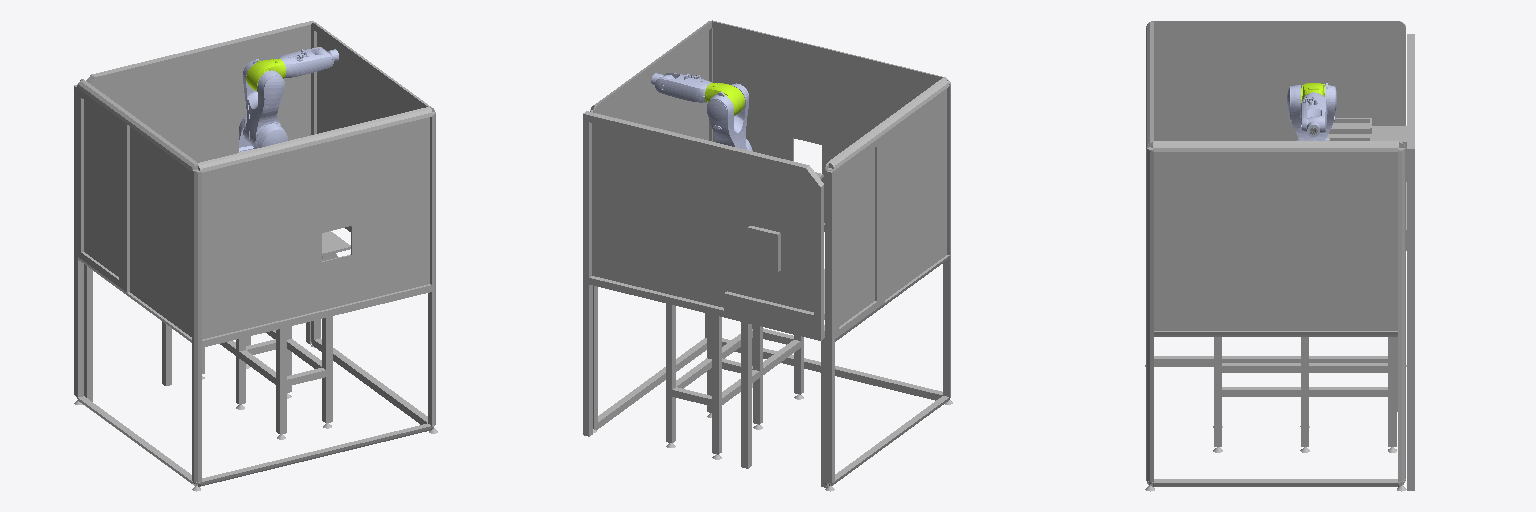
URDF robot description (kuka_urdf):
<?xml version="1.0" encoding="utf-8"?>
<!-- This URDF was automatically created by SolidWorks to URDF Exporter! Originally created by [author] ([email redacted]) 
     Commit Version: 1.5.1-0-g916b5db  Build Version: 1.5.7152.31018
     For more information, please see http://wiki.ros.org/sw_urdf_exporter -->
<robot
  name="kuka_urdf">
  <link
    name="base_link">
    <inertial>
      <origin
        xyz="0.578233258845226 -0.427953822747016 1.10006999729089"
        rpy="0 0 0" />
      <mass
        value="156.699273713239" />
      <inertia
        ixx="15.3483916720076"
        ixy="-0.769890218667312"
        ixz="-0.333622669748493"
        iyy="20.9696858078628"
        iyz="-0.21782222630579"
        izz="14.5591699314294" />
    </inertial>
    <visual>
      <origin
        xyz="0 0 0"
        rpy="0 0 0" />
      <geometry>
        <mesh
          filename="package://kuka_urdf/meshes/base_link.STL" />
      </geometry>
      <material
        name="">
        <color
          rgba="0.752941176470588 0.752941176470588 0.752941176470588 1" />
      </material>
    </visual>
    <collision>
      <origin
        xyz="0 0 0"
        rpy="0 0 0" />
      <geometry>
        <mesh
          filename="package://kuka_urdf/meshes/base_link.STL" />
      </geometry>
    </collision>
  </link>
  <link
    name="Link1">
    <inertial>
      <origin
        xyz="-0.0351156705591721 0.000184791414012453 -0.134801459657782"
        rpy="0 0 0" />
      <mass
        value="13.310335827662" />
      <inertia
        ixx="0.0747995175973457"
        ixy="-9.77969830121166E-05"
        ixz="-0.00113073350324059"
        iyy="0.123810684850794"
        iyz="-1.89141220859297E-05"
        izz="0.118881621023302" />
    </inertial>
    <visual>
      <origin
        xyz="0 0 0"
        rpy="0 0 0" />
      <geometry>
        <mesh
          filename="package://kuka_urdf/meshes/Link1.STL" />
      </geometry>
      <material
        name="">
        <color
          rgba="0.996078431372549 0.996078431372549 1 1" />
      </material>
    </visual>
    <collision>
      <origin
        xyz="0 0 0"
        rpy="0 0 0" />
      <geometry>
        <mesh
          filename="package://kuka_urdf/meshes/Link1.STL" />
      </geometry>
    </collision>
  </link>
  <joint
    name="Joint1"
    type="continuous">
    <origin
      xyz="0.8275 -0.43219 1.3595"
      rpy="0 0 0" />
    <parent
      link="base_link" />
    <child
      link="Link1" />
    <axis
      xyz="0 1 0" />
    <limit
      lower="-100"
      upper="100"
      effort="500"
      velocity="2" />
  </joint>
  <link
    name="Link2">
    <inertial>
      <origin
        xyz="-0.0170325808260173 0.0020186905588519 -0.067281926501007"
        rpy="0 0 0" />
      <mass
        value="6.27526433045052" />
      <inertia
        ixx="0.0762054973038654"
        ixy="9.82188144569864E-06"
        ixz="-0.00530053527199465"
        iyy="0.0500772495062891"
        iyz="-0.000515039637430019"
        izz="0.0562692167501733" />
    </inertial>
    <visual>
      <origin
        xyz="0 0 0"
        rpy="0 0 0" />
      <geometry>
        <mesh
          filename="package://kuka_urdf/meshes/Link2.STL" />
      </geometry>
      <material
        name="">
        <color
          rgba="0.792156862745098 0.819607843137255 0.933333333333333 1" />
      </material>
    </visual>
    <collision>
      <origin
        xyz="0 0 0"
        rpy="0 0 0" />
      <geometry>
        <mesh
          filename="package://kuka_urdf/meshes/Link2.STL" />
      </geometry>
    </collision>
  </link>
  <joint
    name="Joint2"
    type="revolute">
    <origin
      xyz="0.025 0 0.183"
      rpy="0 0 0" />
    <parent
      link="Link1" />
    <child
      link="Link2" />
    <axis
      xyz="0 0 1" />
    <limit
      lower="-6.28"
      upper="6.28"
      effort="500"
      velocity="2" />
  </joint>
  <link
    name="Link3">
    <inertial>
      <origin
        xyz="-0.00525474427373585 -0.00581945166654008 -0.183556176601122"
        rpy="0 0 0" />
      <mass
        value="7.36258419830385" />
      <inertia
        ixx="0.151415780044457"
        ixy="-1.49717820004799E-05"
        ixz="0.000868975891906839"
        iyy="0.135639503717904"
        iyz="0.00168356968157077"
        izz="0.0384883579896224" />
    </inertial>
    <visual>
      <origin
        xyz="0 0 0"
        rpy="0 0 0" />
      <geometry>
        <mesh
          filename="package://kuka_urdf/meshes/Link3.STL" />
      </geometry>
      <material
        name="">
        <color
          rgba="0.792156862745098 0.819607843137255 0.933333333333333 1" />
      </material>
    </visual>
    <collision>
      <origin
        xyz="0 0 0"
        rpy="0 0 0" />
      <geometry>
        <mesh
          filename="package://kuka_urdf/meshes/Link3.STL" />
      </geometry>
    </collision>
  </link>
  <joint
    name="Joint3"
    type="revolute">
    <origin
      xyz="0 0 0.315"
      rpy="0 0 0" />
    <parent
      link="Link2" />
    <child
      link="Link3" />
    <axis
      xyz="0 -1 0" />
    <limit
      lower="-6.28"
      upper="6.28"
      effort="500"
      velocity="2" />
  </joint>
  <link
    name="Link4">
    <inertial>
      <origin
        xyz="-0.0910602630812216 0.000775516189770509 -0.0246377959392461"
        rpy="0 0 0" />
      <mass
        value="2.90698496734874" />
      <inertia
        ixx="0.00835937630352446"
        ixy="3.52504576818562E-05"
        ixz="-0.00140858847686176"
        iyy="0.0112132449448129"
        iyz="1.88954255172526E-05"
        izz="0.0100277382418828" />
    </inertial>
    <visual>
      <origin
        xyz="0 0 0"
        rpy="0 0 0" />
      <geometry>
        <mesh
          filename="package://kuka_urdf/meshes/Link4.STL" />
      </geometry>
      <material
        name="">
        <color
          rgba="0.8 1 0.2 1" />
      </material>
    </visual>
    <collision>
      <origin
        xyz="0 0 0"
        rpy="0 0 0" />
      <geometry>
        <mesh
          filename="package://kuka_urdf/meshes/Link4.STL" />
      </geometry>
    </collision>
  </link>
  <joint
    name="Joint4"
    type="revolute">
    <origin
      xyz="0.10695 0.003 0.035"
      rpy="0 0 0" />
    <parent
      link="Link3" />
    <child
      link="Link4" />
    <axis
      xyz="0 -1 0" />
    <limit
      lower="-6.28"
      upper="6.28"
      effort="500"
      velocity="2" />
  </joint>
  <link
    name="Link5">
    <inertial>
      <origin
        xyz="-0.1340682757853 0.00346882113244334 0.000289159358457303"
        rpy="0 0 0" />
      <mass
        value="2.75654210425904" />
      <inertia
        ixx="0.00584711964625554"
        ixy="-0.000156323136874247"
        ixz="5.19522467907712E-06"
        iyy="0.0156113113263976"
        iyz="1.44373593566698E-05"
        izz="0.0172713088405886" />
    </inertial>
    <visual>
      <origin
        xyz="0 0 0"
        rpy="0 0 0" />
      <geometry>
        <mesh
          filename="package://kuka_urdf/meshes/Link5.STL" />
      </geometry>
      <material
        name="">
        <color
          rgba="0.792156862745098 0.819607843137255 0.933333333333333 1" />
      </material>
    </visual>
    <collision>
      <origin
        xyz="0 0 0"
        rpy="0 0 0" />
      <geometry>
        <mesh
          filename="package://kuka_urdf/meshes/Link5.STL" />
      </geometry>
    </collision>
  </link>
  <joint
    name="Joint5"
    type="revolute">
    <origin
      xyz="0.25805 0 0"
      rpy="0 0 0" />
    <parent
      link="Link4" />
    <child
      link="Link5" />
    <axis
      xyz="-1 0 0" />
    <limit
      lower="-6.28"
      upper="6.28"
      effort="500"
      velocity="2" />
  </joint>
  <link
    name="Link6">
    <inertial>
      <origin
        xyz="-0.050710829779834 0.00191367544254872 -3.039581434372E-05"
        rpy="0 0 0" />
      <mass
        value="0.442067197041371" />
      <inertia
        ixx="0.000318420757784039"
        ixy="1.66314420372699E-05"
        ixz="3.20639671747857E-07"
        iyy="0.000528480030475778"
        iyz="3.23079721639542E-07"
        izz="0.000562282896446415" />
    </inertial>
    <visual>
      <origin
        xyz="0 0 0"
        rpy="0 0 0" />
      <geometry>
        <mesh
          filename="package://kuka_urdf/meshes/Link6.STL" />
      </geometry>
      <material
        name="">
        <color
          rgba="0.792156862745098 0.819607843137255 0.933333333333333 1" />
      </material>
    </visual>
    <collision>
      <origin
        xyz="0 0 0"
        rpy="0 0 0" />
      <geometry>
        <mesh
          filename="package://kuka_urdf/meshes/Link6.STL" />
      </geometry>
    </collision>
  </link>
  <joint
    name="Joint6"
    type="revolute">
    <origin
      xyz="0.0665 0 0"
      rpy="0 0 0" />
    <parent
      link="Link5" />
    <child
      link="Link6" />
    <axis
      xyz="0 1 0" />
    <limit
      lower="-6.28"
      upper="6.28"
      effort="500"
      velocity="2" />
  </joint>
  <link
    name="Link7">
    <inertial>
      <origin
        xyz="0.005980331956146 2.77555756156289E-16 4.3140731314173E-05"
        rpy="0 0 0" />
      <mass
        value="0.0139949492210214" />
      <inertia
        ixx="3.02502810414478E-06"
        ixy="-3.73225880560227E-21"
        ixz="-8.56055866654649E-10"
        iyy="1.71731248188302E-06"
        iyz="1.07125006063243E-22"
        izz="1.70788961196181E-06" />
    </inertial>
    <visual>
      <origin
        xyz="0 0 0"
        rpy="0 0 0" />
      <geometry>
        <mesh
          filename="package://kuka_urdf/meshes/Link7.STL" />
      </geometry>
      <material
        name="">
        <color
          rgba="0.6 0.6 0.6 1" />
      </material>
    </visual>
    <collision>
      <origin
        xyz="0 0 0"
        rpy="0 0 0" />
      <geometry>
        <mesh
          filename="package://kuka_urdf/meshes/Link7.STL" />
      </geometry>
    </collision>
  </link>
  <joint
    name="Joint7"
    type="revolute">
    <origin
      xyz="0 0 0"
      rpy="0 0 0" />
    <parent
      link="Link6" />
    <child
      link="Link7" />
    <axis
      xyz="1 0 0" />
    <limit
      lower="-6.28"
      upper="6.28"
      effort="500"
      velocity="2" />
  </joint>
</robot>

--- Render facts (derived) ---
Views: 3 orthographic renders of the robot side by side, from view 1: azimuth 30°, elevation 25°; view 2: azimuth 150°, elevation 25°; view 3: azimuth 270°, elevation 25°.
Robot: kuka_urdf — 8 links, 7 joints (6 revolute, 1 continuous); root link base_link; default pose: every joint at zero.
Visible links, largest first — view 1: base_link, Link3, Link5, Link2, Link4; view 2: base_link, Link3, Link5, Link4; view 3: base_link, Link3, Link5.
Link boxes in pixels (left/top/right/bottom): base_link: left=74, top=21, right=437, bottom=491; Link3: left=243, top=59, right=284, bottom=146; Link5: left=278, top=47, right=333, bottom=78; Link2: left=239, top=115, right=287, bottom=152; Link4: left=246, top=59, right=285, bottom=91; base_link: left=583, top=20, right=952, bottom=491; Link3: left=707, top=83, right=748, bottom=149; Link5: left=655, top=73, right=711, bottom=102; Link4: left=705, top=83, right=744, bottom=115; base_link: left=1145, top=21, right=1414, bottom=491; Link3: left=1287, top=83, right=1336, bottom=140; Link5: left=1300, top=92, right=1327, bottom=132.
Bounding box of the posed robot: 1.49 × 1.33 × 1.97 m (x, y, z).
8 mesh visuals loaded from 8 distinct referenced files (8 binary STL).